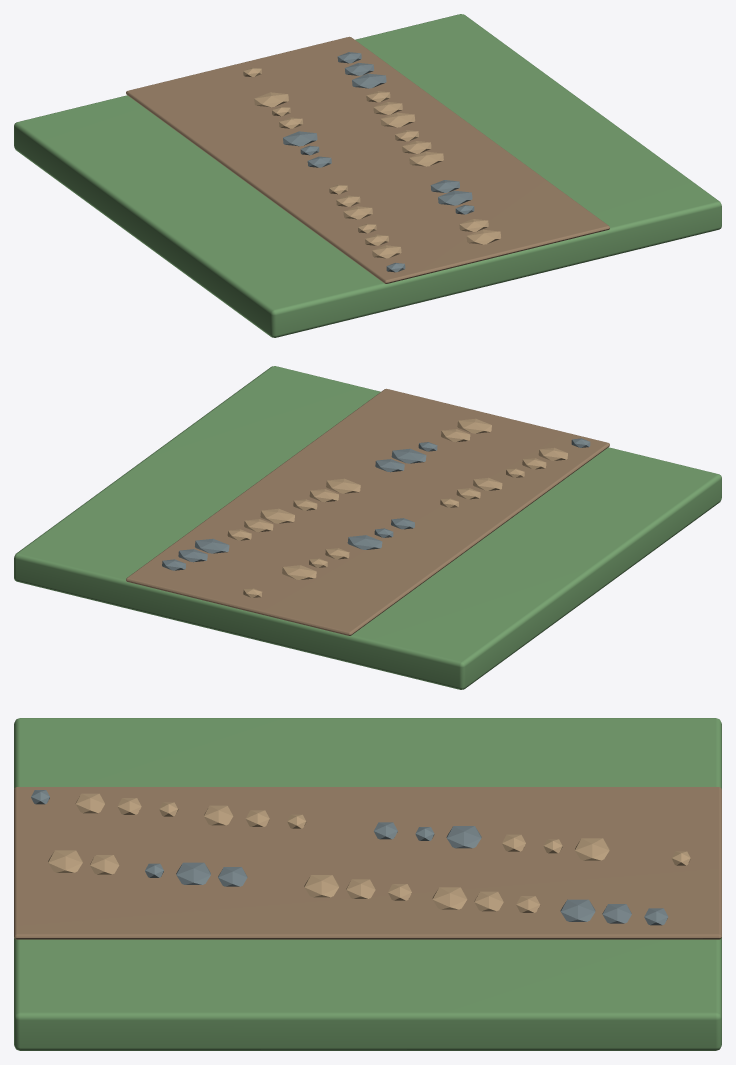
The model's file is SM_Path_Dirt_4m.fbx.
3 views of the same model, one above another, from view 1: azimuth 30°, elevation 25°; view 2: azimuth 150°, elevation 25°; view 3: azimuth 270°, elevation 25° (orthographic). The views are drawn at different scales.
Parts seen in each view (by area): view 1: SM_Path_Dirt_4m; view 2: SM_Path_Dirt_4m; view 3: SM_Path_Dirt_4m.
Boxes of the visible parts, x1,y1,x2,y2 form: SM_Path_Dirt_4m: (14, 14, 721, 337); SM_Path_Dirt_4m: (14, 366, 721, 689); SM_Path_Dirt_4m: (14, 718, 721, 1050).
Bounding box in the file's own units: 4 × 0.315 × 4.
